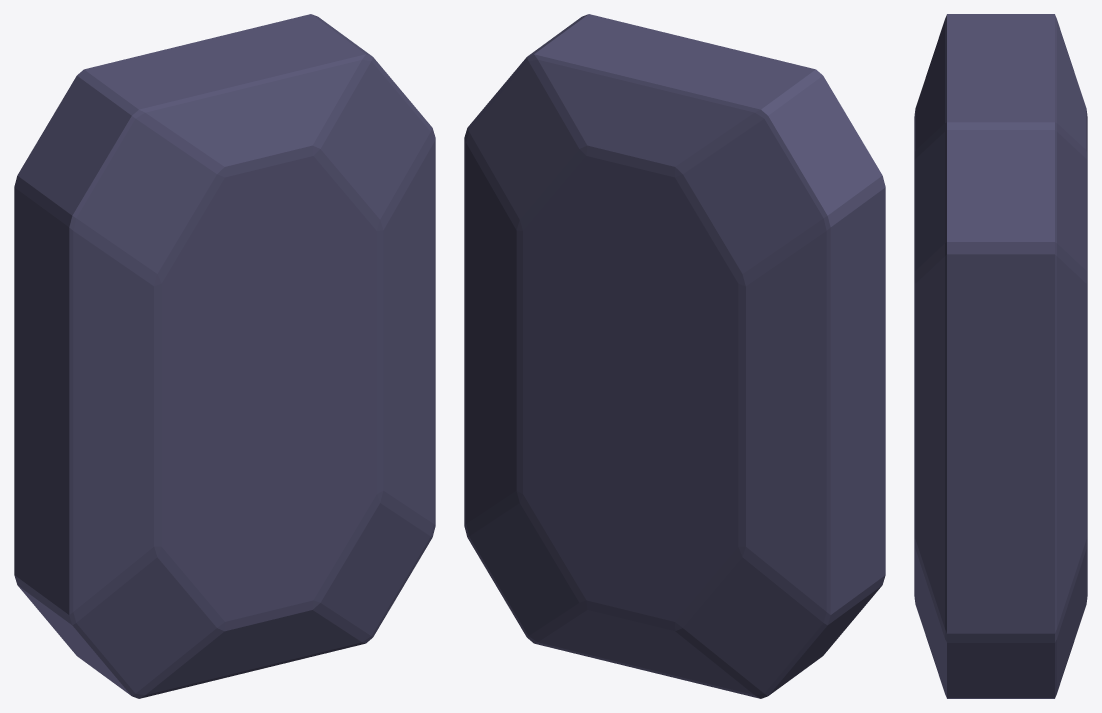
The model's file is Mithril.fbx.
The picture shows the model from 3 angles, left to right: view 1: azimuth 30°, elevation 25°; view 2: azimuth 150°, elevation 25°; view 3: azimuth 270°, elevation 25°; orthographic projection. The views are drawn at different scales.
Visible parts, largest first — view 1: Cube; view 2: Cube; view 3: Cube.
Part boxes in pixels (left/top/right/bottom): Cube: left=14, top=14, right=435, bottom=698; Cube: left=464, top=14, right=885, bottom=698; Cube: left=914, top=14, right=1087, bottom=698.
Size of the model in its own units: 200 by 307 by 83.76.
